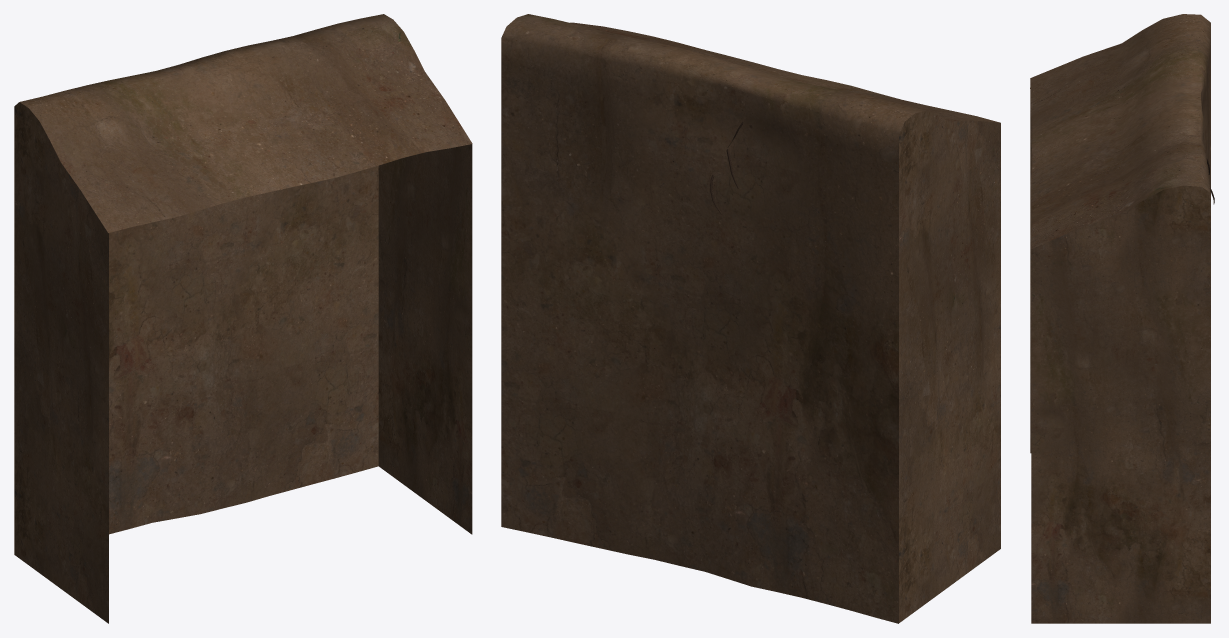
File: S7U_EarthWall_2m_B.fbx
The picture shows the model from 3 angles, left to right: view 1: azimuth 30°, elevation 25°; view 2: azimuth 150°, elevation 25°; view 3: azimuth 270°, elevation 25°; orthographic projection. The views are drawn at different scales.
Visible parts, largest first — view 1: S7U_EarthWall_2m_B; view 2: S7U_EarthWall_2m_B; view 3: S7U_EarthWall_2m_B.
Part boxes in pixels (<box>): S7U_EarthWall_2m_B: <box>14,14,472,623</box>; S7U_EarthWall_2m_B: <box>501,14,1000,623</box>; S7U_EarthWall_2m_B: <box>1030,14,1214,623</box>.
Size of the model in its own units: 2 by 2.41 by 0.9137.
